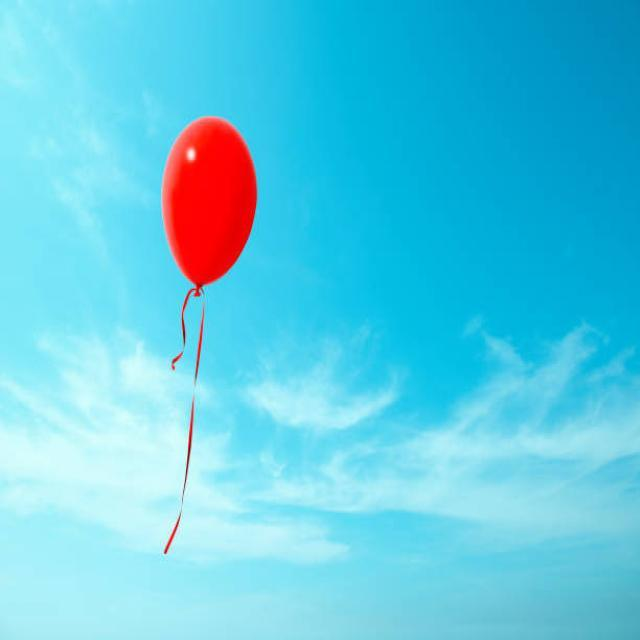balloon: (156, 106, 266, 312)
